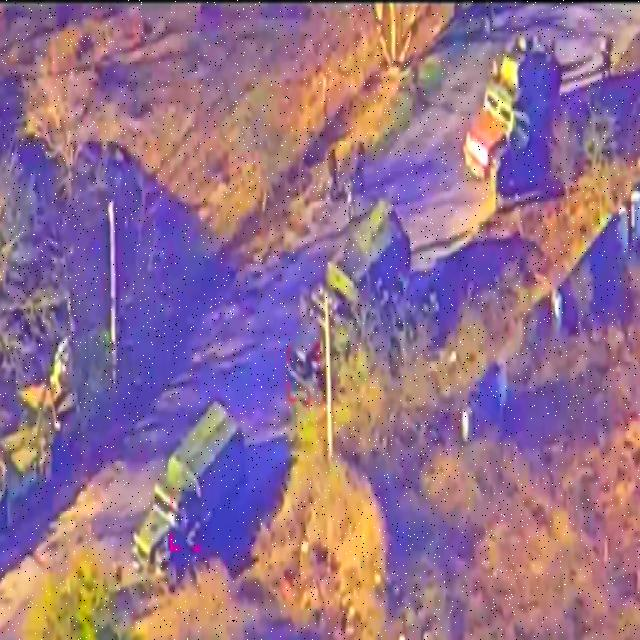CAR: (461, 30, 560, 194)
TRUCK: (285, 197, 415, 401), (131, 399, 249, 587)
